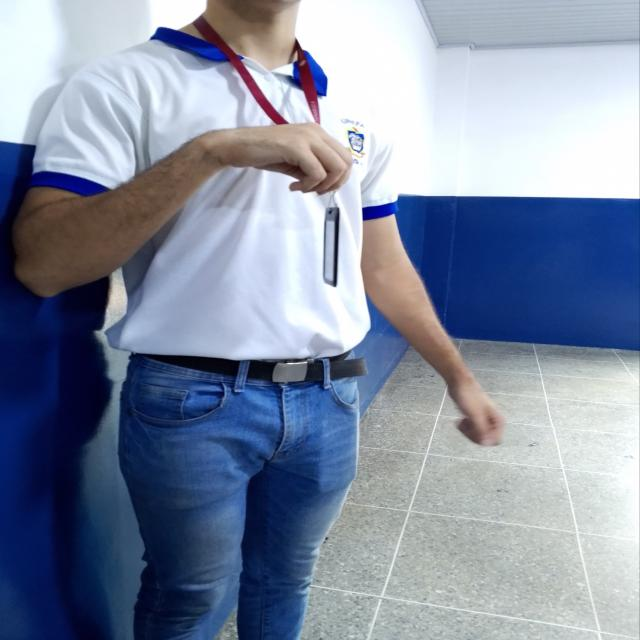carnet: (325, 213, 339, 285)
uniforme_superior: (31, 26, 402, 361)
